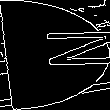N_W: (5, 34, 105, 76)
